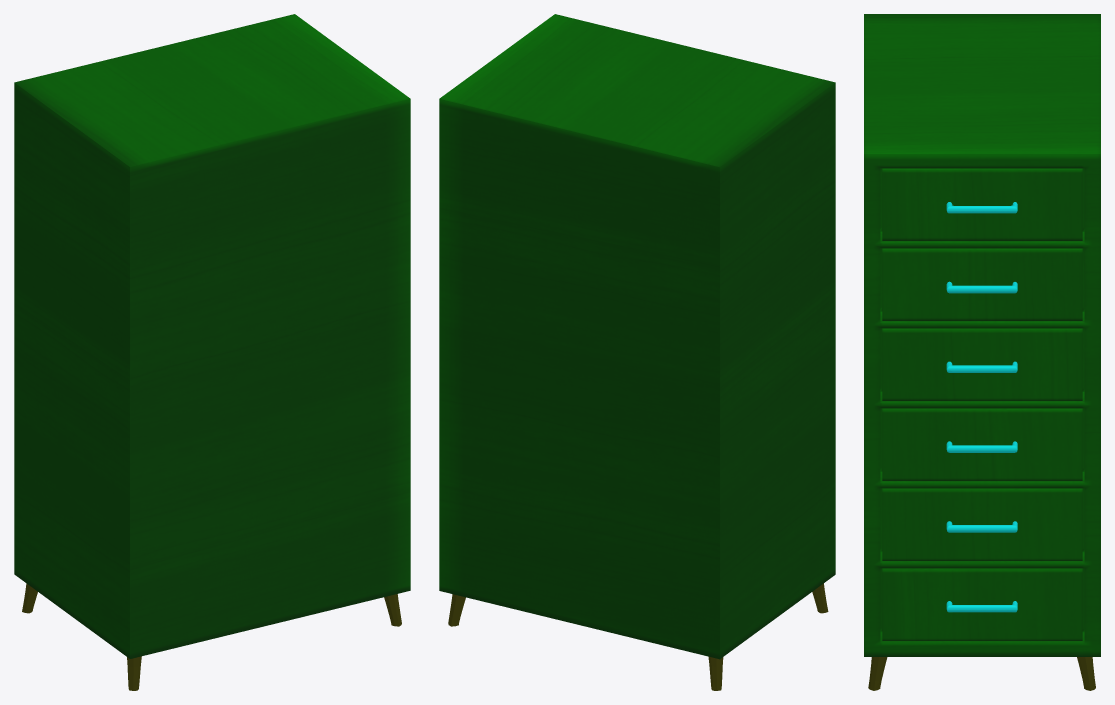
Rendered from drawer-small.glb.
The picture shows the model from 3 angles, left to right: view 1: azimuth 30°, elevation 25°; view 2: azimuth 150°, elevation 25°; view 3: azimuth 270°, elevation 25°; orthographic projection. The views are drawn at different scales.
Visible parts, largest first — view 1: room2_dresser_small; view 2: room2_dresser_small; view 3: room2_dresser_small.
Boxes of the visible parts, x1,y1,x2,y2 form: room2_dresser_small: (14,14,410,690); room2_dresser_small: (439,14,835,690); room2_dresser_small: (864,14,1100,690).
Size of the model in its own units: 1.43 by 2.47 by 0.9839.
Materials: 1 (1 with a texture image).
